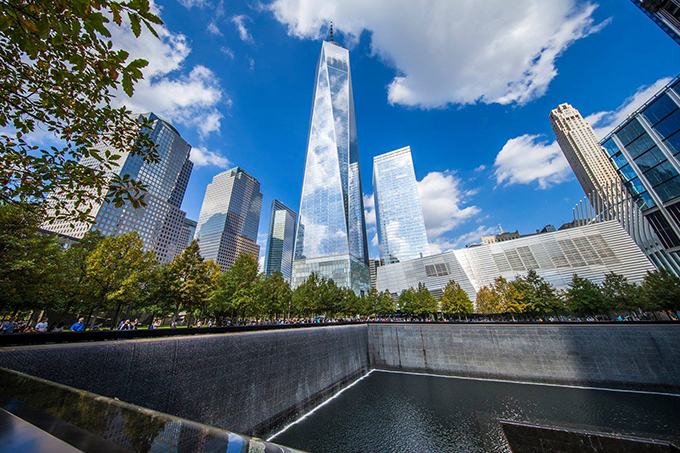wtc: (301, 36, 365, 280)
